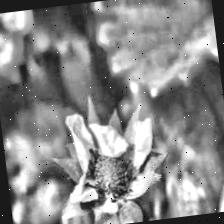Blossom Blight: (77, 140, 145, 208)
